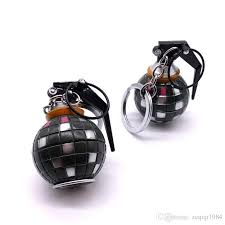e1: (30, 78, 115, 192), (121, 40, 205, 134)
